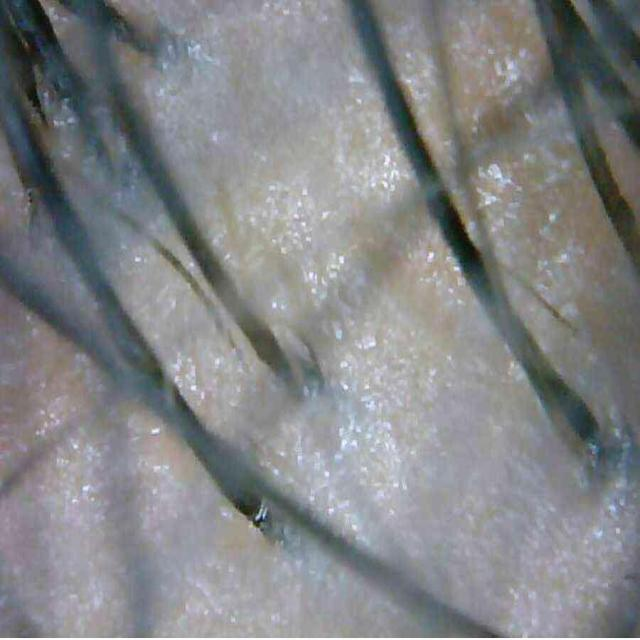o: (333, 332, 422, 508), (445, 2, 551, 133), (330, 89, 416, 208), (156, 327, 256, 420), (576, 397, 639, 527), (253, 176, 322, 267), (122, 408, 179, 509), (44, 428, 113, 510), (474, 158, 525, 235), (153, 20, 218, 79), (417, 225, 471, 296), (393, 38, 443, 113), (299, 247, 347, 313), (32, 400, 66, 440)
